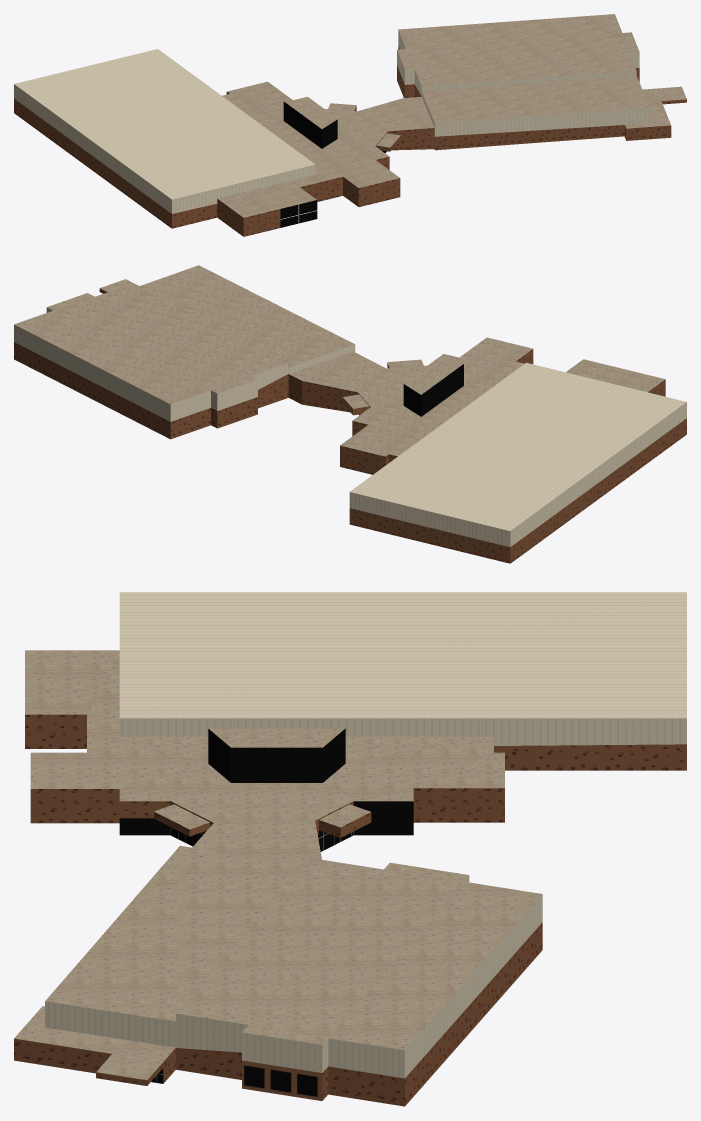
File: callan.obj
3 views of the same model, one above another, from view 1: azimuth 30°, elevation 25°; view 2: azimuth 150°, elevation 25°; view 3: azimuth 270°, elevation 25° (orthographic). The views are drawn at different scales.
Parts seen in each view (by area): view 1: polySurface1_initialS; view 2: polySurface1_initialS; view 3: polySurface1_initialS.
Part boxes in pixels (<box>): polySurface1_initialS: <box>14,14,686,236</box>; polySurface1_initialS: <box>14,265,686,563</box>; polySurface1_initialS: <box>14,592,686,1106</box>.
Size of the model in its own units: 3.06 by 0.2286 by 1.9.
